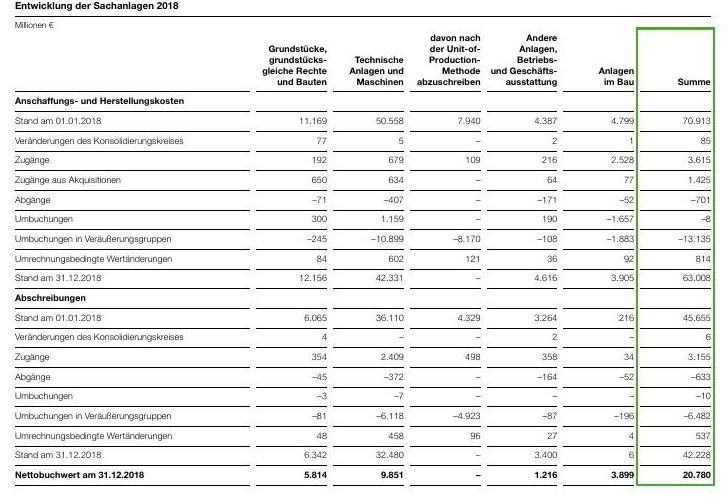table: (0, 0, 728, 500)
